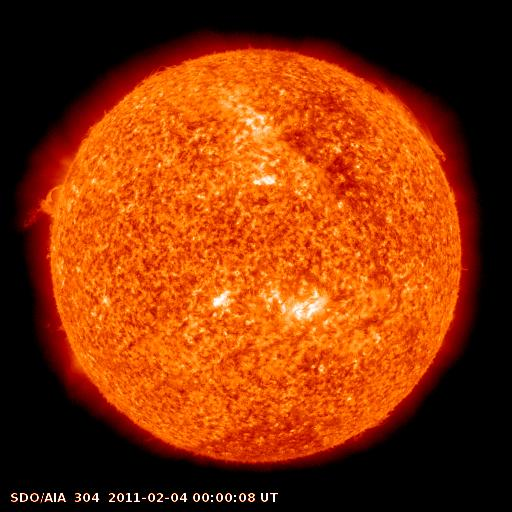prominence: (378, 81, 453, 164), (17, 170, 74, 242)
